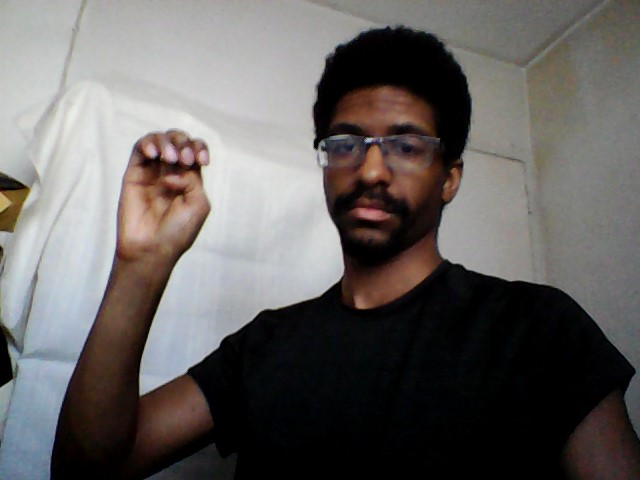e: (109, 125, 217, 261)
